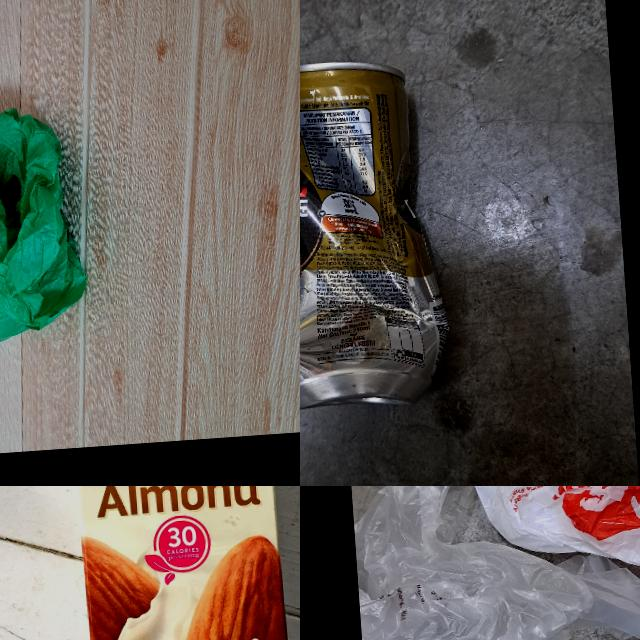caixinha: (59, 486, 296, 640)
lata: (300, 49, 454, 412)
sacola plástica: (347, 486, 640, 640), (0, 103, 93, 353), (457, 486, 640, 602)
